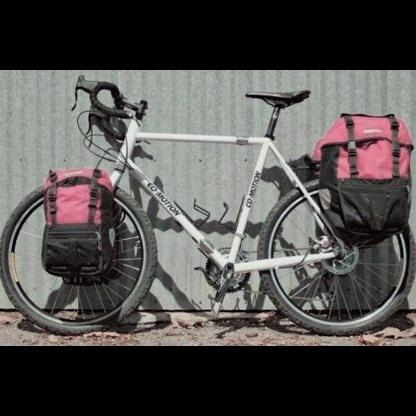Bicycle: (0, 77, 412, 340)
